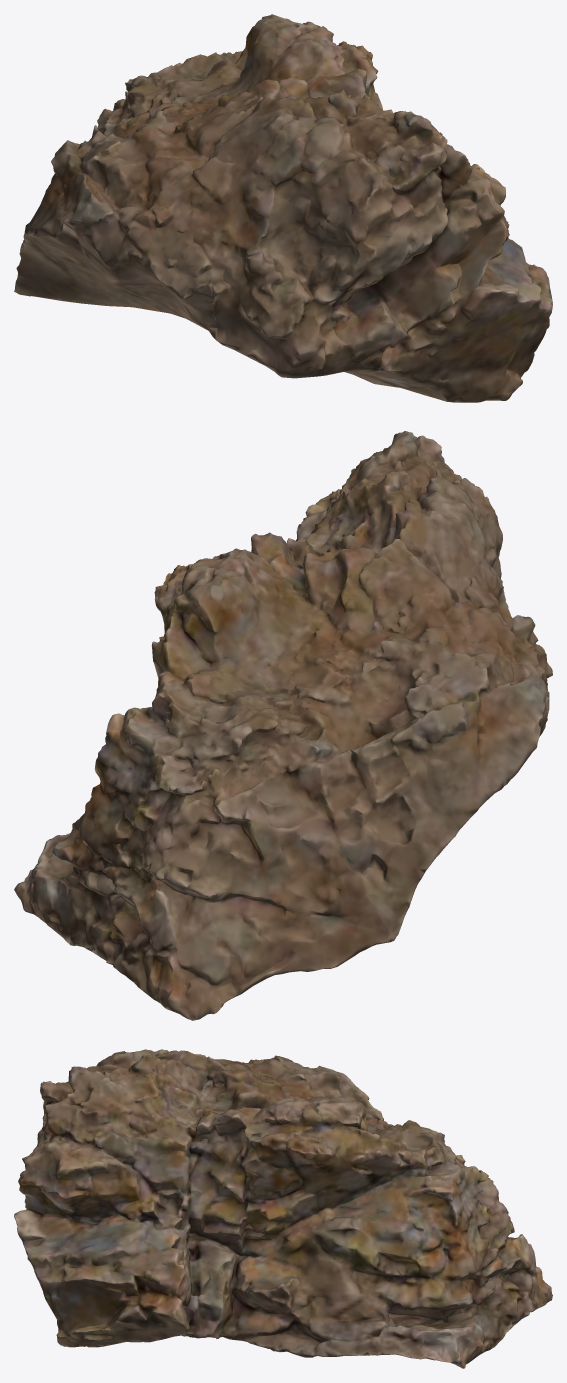
File: boulder_lo.glb
3 renders of one model, top to bottom at view 1: azimuth 30°, elevation 25°; view 2: azimuth 150°, elevation 25°; view 3: azimuth 270°, elevation 25°, orthographic. The views are drawn at different scales.
Visible parts, largest first — view 1: boulder_01; view 2: boulder_01; view 3: boulder_01.
Part boxes in pixels (x1,y1,x2,y2): boulder_01: (14, 14, 552, 402); boulder_01: (14, 431, 552, 1020); boulder_01: (14, 1049, 552, 1368).
Size of the model in its own units: 1.27 by 1 by 1.83.
1 material, 1 textured.
